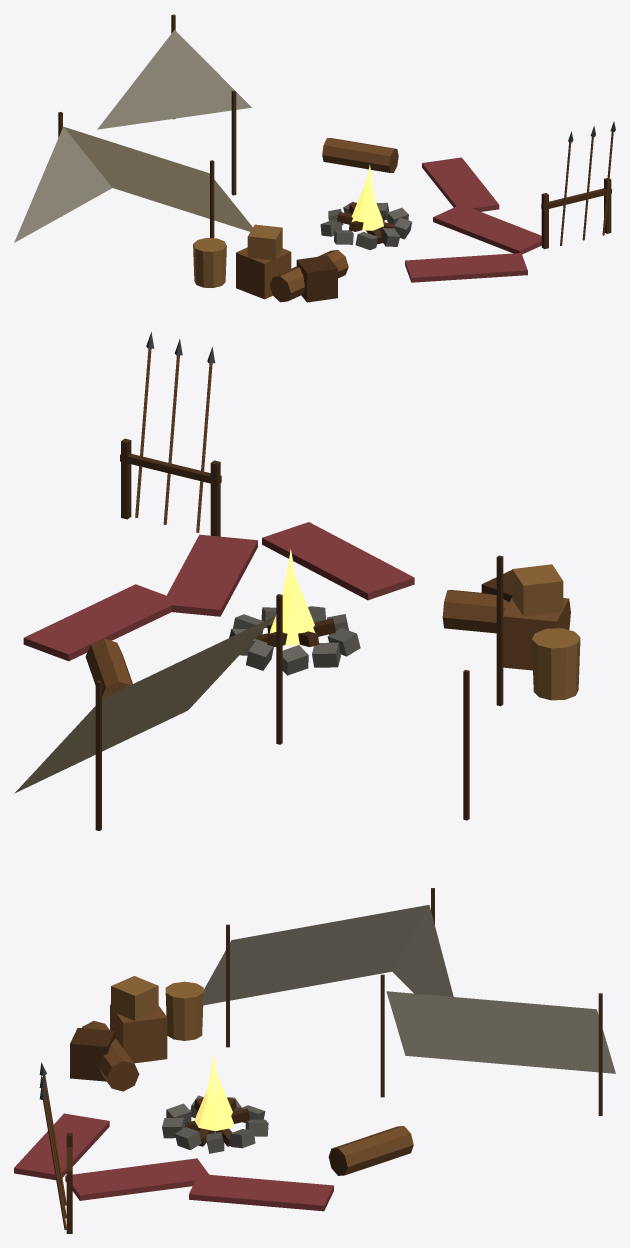
File: acampamento_v02.glb
3 views of the same model, one above another, from view 1: azimuth 30°, elevation 25°; view 2: azimuth 150°, elevation 25°; view 3: azimuth 270°, elevation 25° (orthographic). The views are drawn at different scales.
Visible parts, largest first — view 1: acampamento, chama; view 2: acampamento, chama; view 3: acampamento, chama.
Boxes of the visible parts, x1=… form: acampamento: x1=14, y1=14, x2=615, y2=302; chama: x1=351, y1=164, x2=383, y2=230; acampamento: x1=14, y1=331, x2=580, y2=830; chama: x1=269, y1=549, x2=315, y2=645; acampamento: x1=14, y1=888, x2=615, y2=1233; chama: x1=194, y1=1054, x2=233, y2=1131.
Size of the model in its own units: 8.1 by 2.11 by 7.84.
